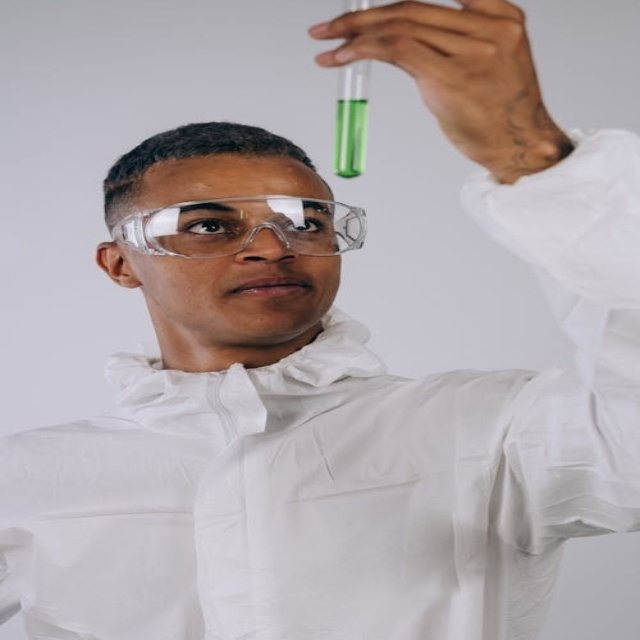Gafas: (108, 196, 368, 258)
Sin_guantes: (310, 1, 563, 175)
Sin_mascara: (207, 271, 320, 335)
